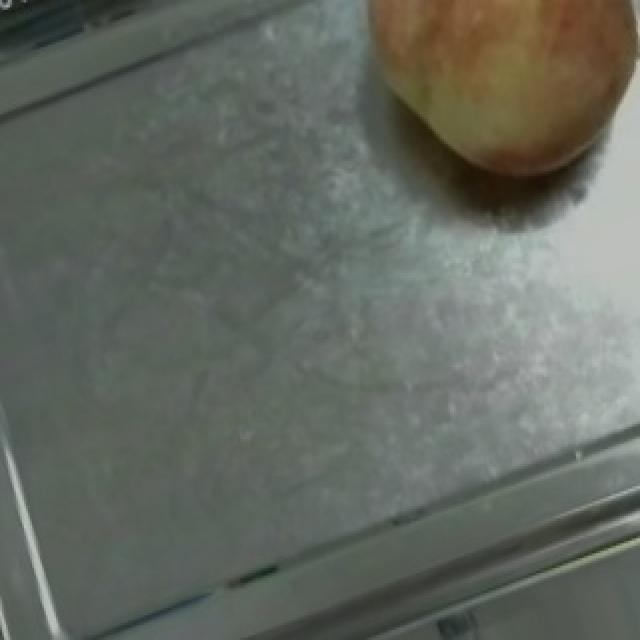Fruit: (324, 0, 640, 216)
